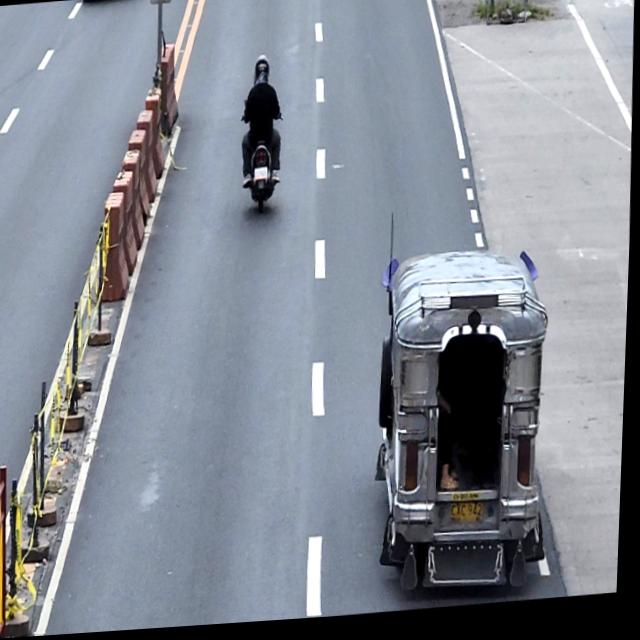Jeep: (371, 208, 560, 606)
License-Plate: (453, 504, 489, 532), (254, 170, 269, 184)
Motorcycle: (237, 111, 285, 218)
